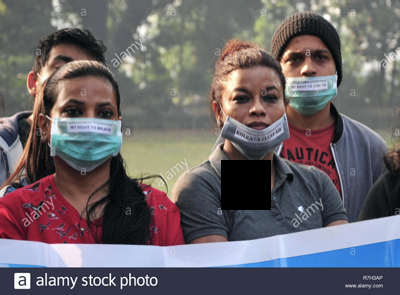mask_weared_incorrect: (223, 81, 285, 159), (279, 44, 340, 114)
with_mask: (50, 96, 120, 171)
